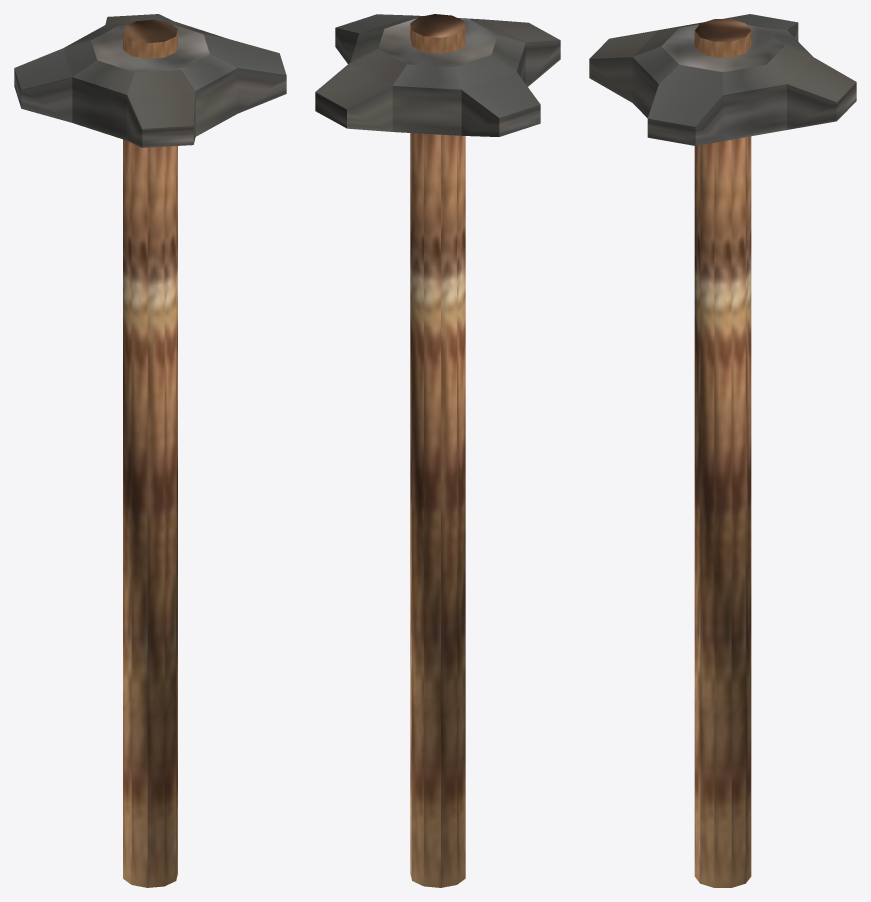
Rendered from inca_mace_1.dae.
The picture shows the model from 3 angles, left to right: view 1: azimuth 30°, elevation 25°; view 2: azimuth 150°, elevation 25°; view 3: azimuth 270°, elevation 25°; orthographic projection.
Parts seen in each view (by area): view 1: club_estrela; view 2: club_estrela; view 3: club_estrela.
Part boxes in pixels (box(x1,y1,x2,y2)): club_estrela: box(14, 14, 286, 887); club_estrela: box(315, 14, 560, 887); club_estrela: box(589, 14, 856, 887).
Bounding box in the file's own units: 0.5324 × 0.5324 × 1.86.
